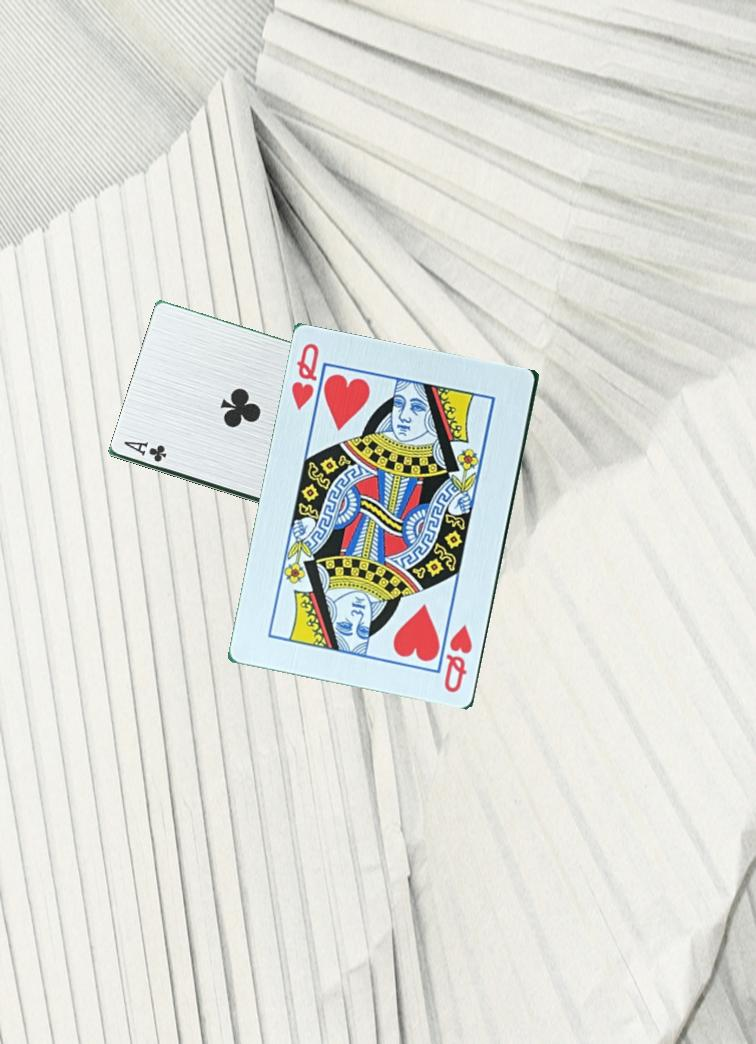ac: (119, 438, 169, 465)
qh: (441, 621, 476, 697), (288, 340, 323, 414)
